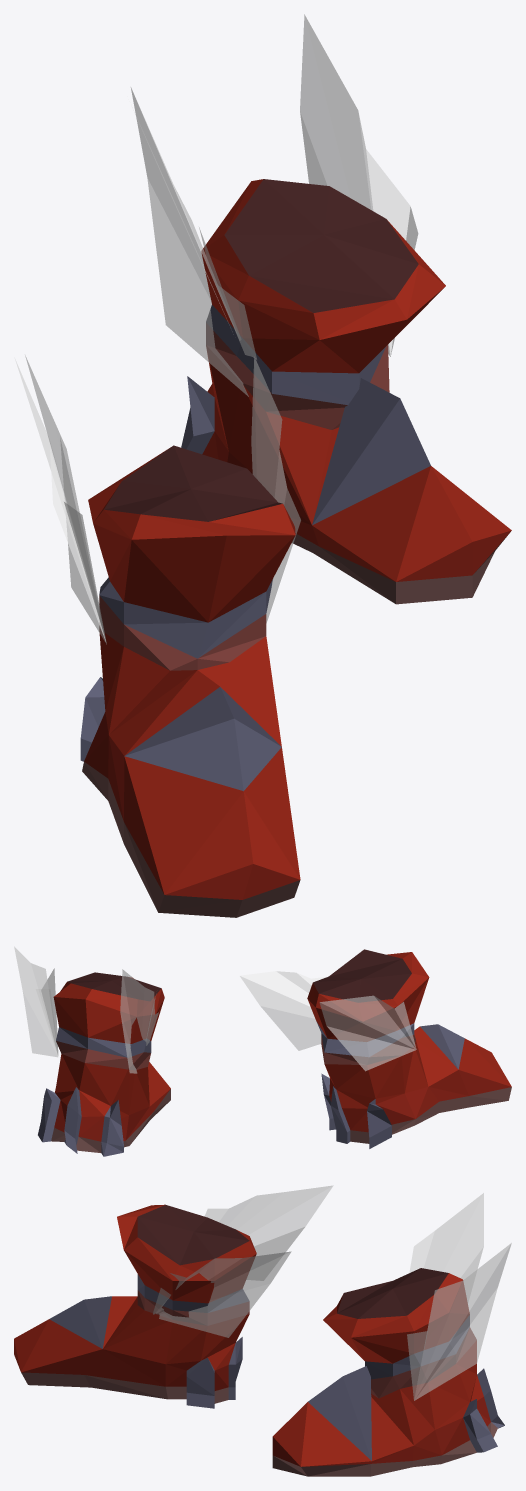
File: player_primordial_boots.glb
3 views of the same model, one above another, from view 1: azimuth 30°, elevation 25°; view 2: azimuth 150°, elevation 25°; view 3: azimuth 270°, elevation 25° (orthographic). The views are drawn at different scales.
Size of the model in its own units: 54.84 by 41.51 by 71.12.
Materials: 2 (2 with a texture image).
